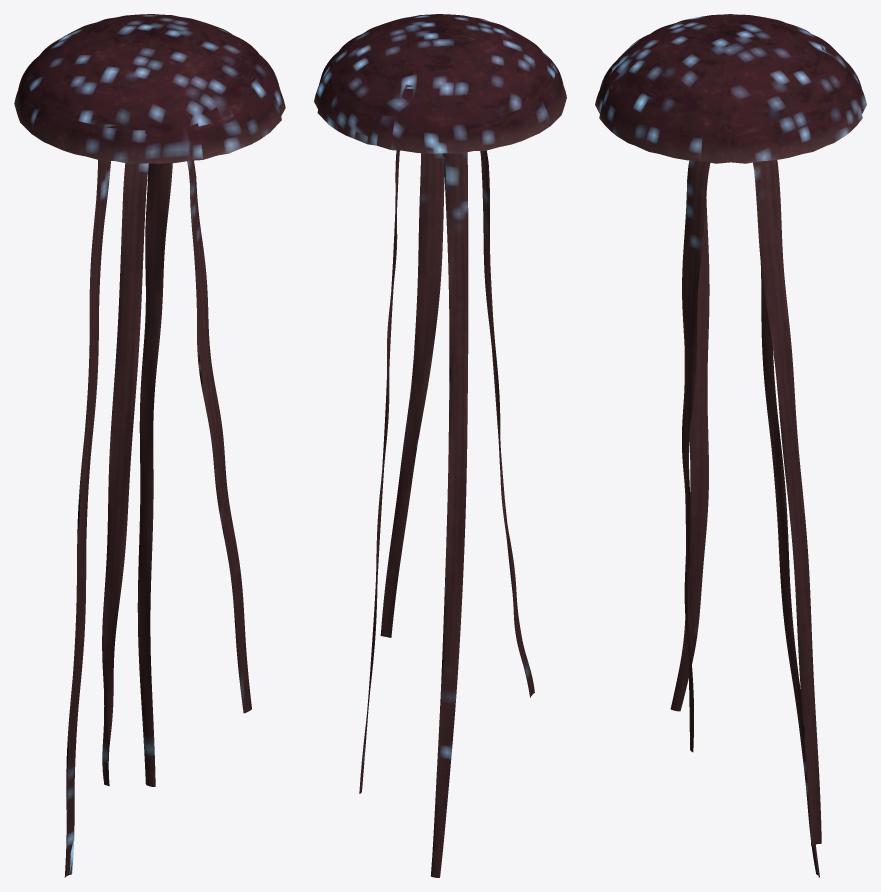
File: stygiomedusa.glb
3 views of the same model, side by side, from view 1: azimuth 30°, elevation 25°; view 2: azimuth 150°, elevation 25°; view 3: azimuth 270°, elevation 25° (orthographic). The views are drawn at different scales.
Visible parts, largest first — view 1: Stygiomedusa; view 2: Stygiomedusa; view 3: Stygiomedusa.
Part boxes in pixels (x1=…): Stygiomedusa: x1=14, y1=14, x2=285, y2=877; Stygiomedusa: x1=314, y1=14, x2=566, y2=877; Stygiomedusa: x1=595, y1=14, x2=866, y2=877.
Size of the model in its own units: 1.5 by 5.26 by 1.5.
3 materials, 3 textured.
